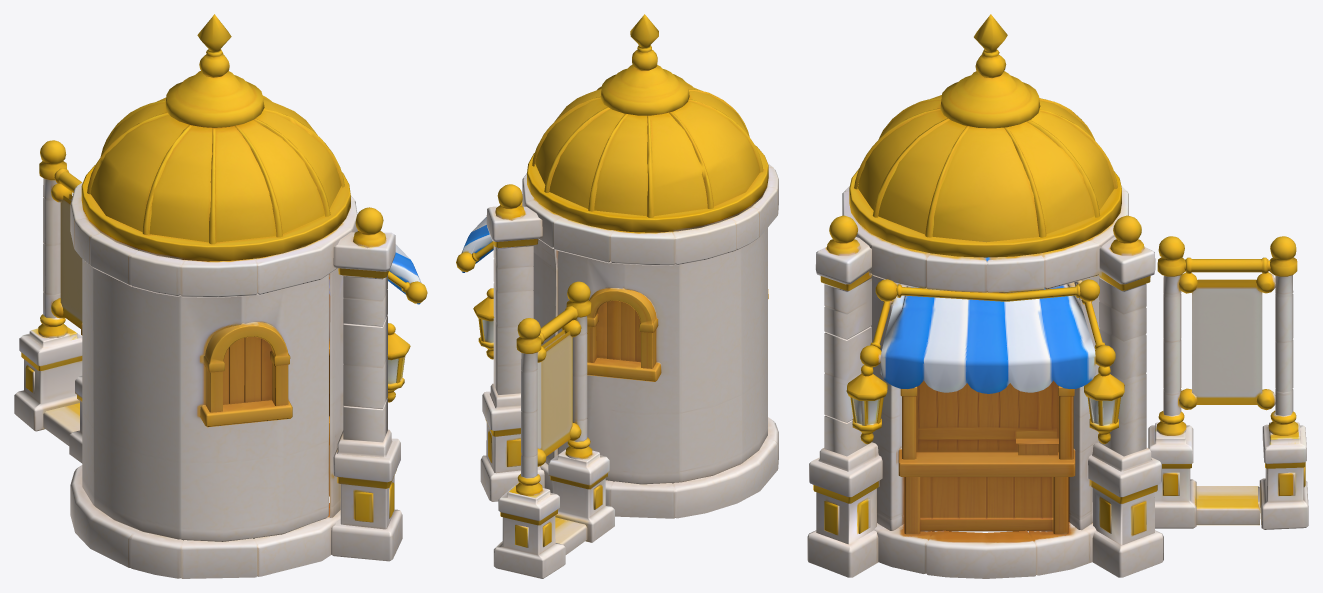
The model's file is HaloReasonHQ_GuardPost_SM_tex4k_pbr_src.fbx.
3 views of the same model, side by side, from view 1: azimuth 30°, elevation 25°; view 2: azimuth 150°, elevation 25°; view 3: azimuth 270°, elevation 25° (orthographic). The views are drawn at different scales.
Parts seen in each view (by area): view 1: d3ef4cc6_33e6_4f5a_ae86_f436c0dbf505; view 2: d3ef4cc6_33e6_4f5a_ae86_f436c0dbf505; view 3: d3ef4cc6_33e6_4f5a_ae86_f436c0dbf505.
Boxes of the visible parts, left/top/right/bottom form: d3ef4cc6_33e6_4f5a_ae86_f436c0dbf505: left=14, top=14, right=427, bottom=578; d3ef4cc6_33e6_4f5a_ae86_f436c0dbf505: left=456, top=14, right=778, bottom=578; d3ef4cc6_33e6_4f5a_ae86_f436c0dbf505: left=807, top=14, right=1308, bottom=578.
Bounding box in the file's own units: 0.6147 × 0.9995 × 0.8911.
1 material, 1 textured.
